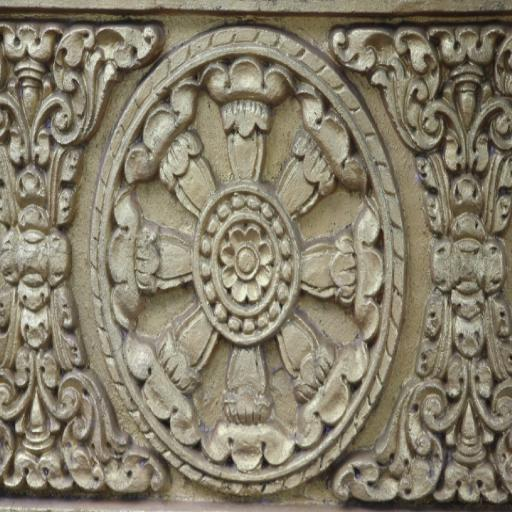hoa: (224, 230, 272, 303)
la: (330, 241, 512, 499), (0, 253, 168, 509), (0, 14, 168, 256), (343, 7, 512, 240), (272, 317, 366, 445), (130, 308, 221, 440), (208, 330, 292, 468), (206, 54, 290, 188), (138, 66, 210, 222), (112, 190, 195, 314), (300, 217, 384, 331), (285, 104, 367, 211)
